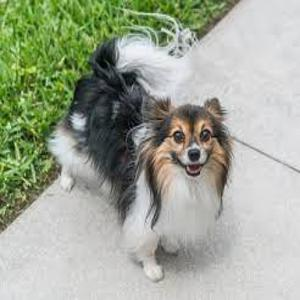yell: (47, 34, 229, 280)
